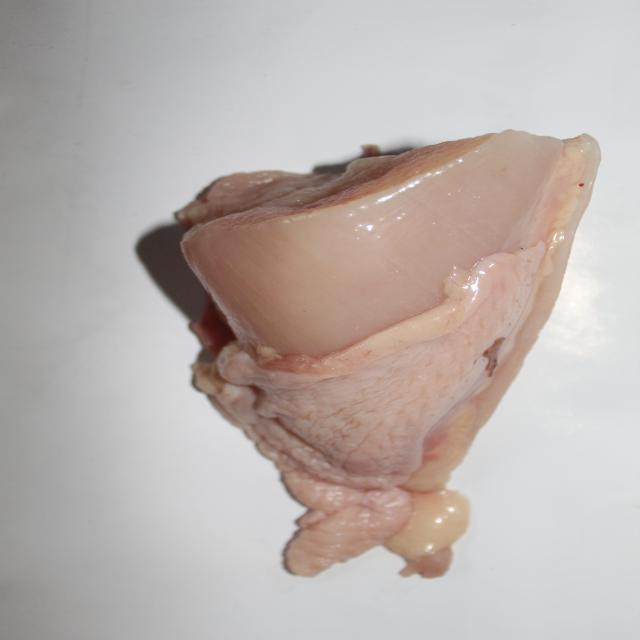chicken: (177, 131, 591, 577)
